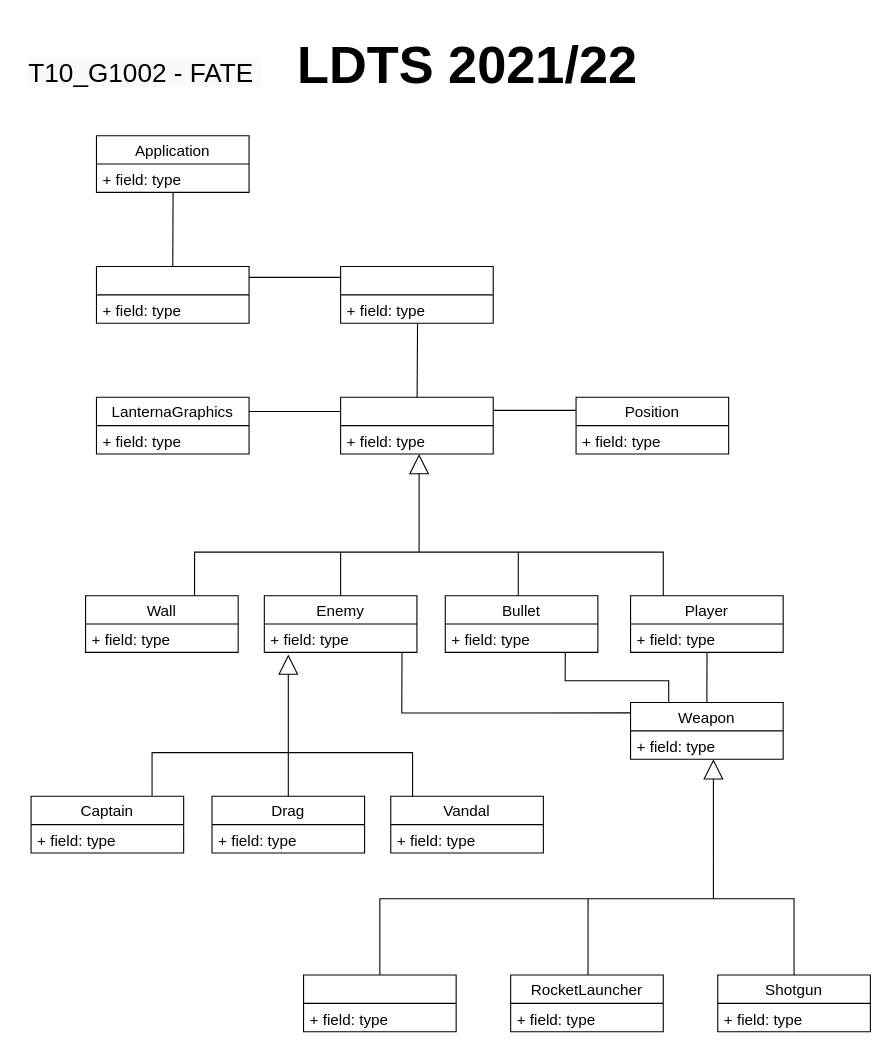
The diagram is 889 pixels wide and 1054 high, and some of its shapes have lost their labels. The shapes that lost their labels are listed below. From the top down, each one's box as (x1, y1, x2, y2) in pixels, then its label:
(95, 265, 249, 323): Game
(340, 265, 493, 323): Level
(340, 396, 493, 454): Entity
(302, 974, 456, 1032): HandCannon
